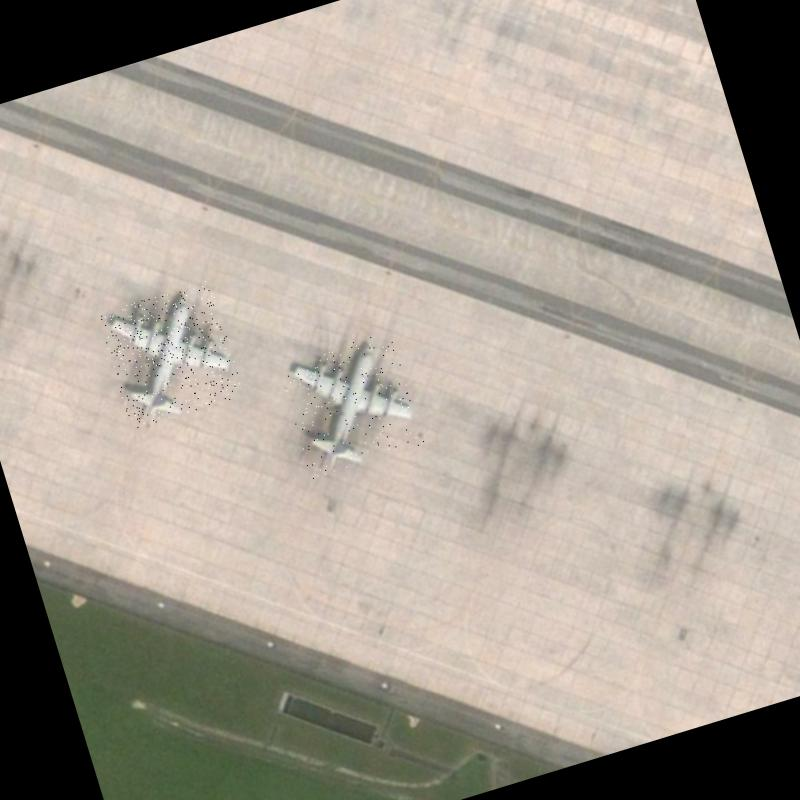A9: (276, 330, 425, 480), (97, 280, 245, 430)
